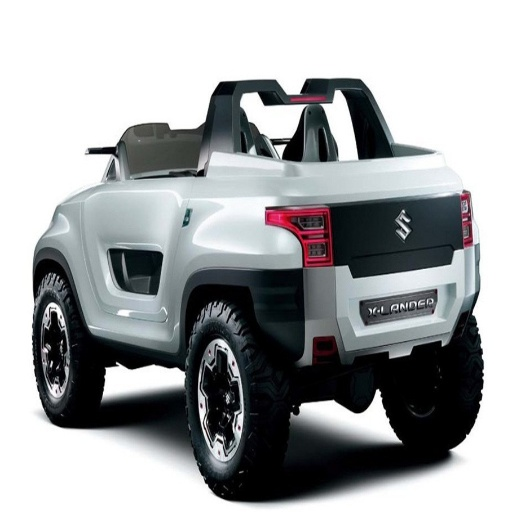back_bumper: (280, 247, 479, 361)
tailgate: (389, 157, 444, 190)
trunk: (91, 188, 290, 351), (319, 165, 457, 317)
